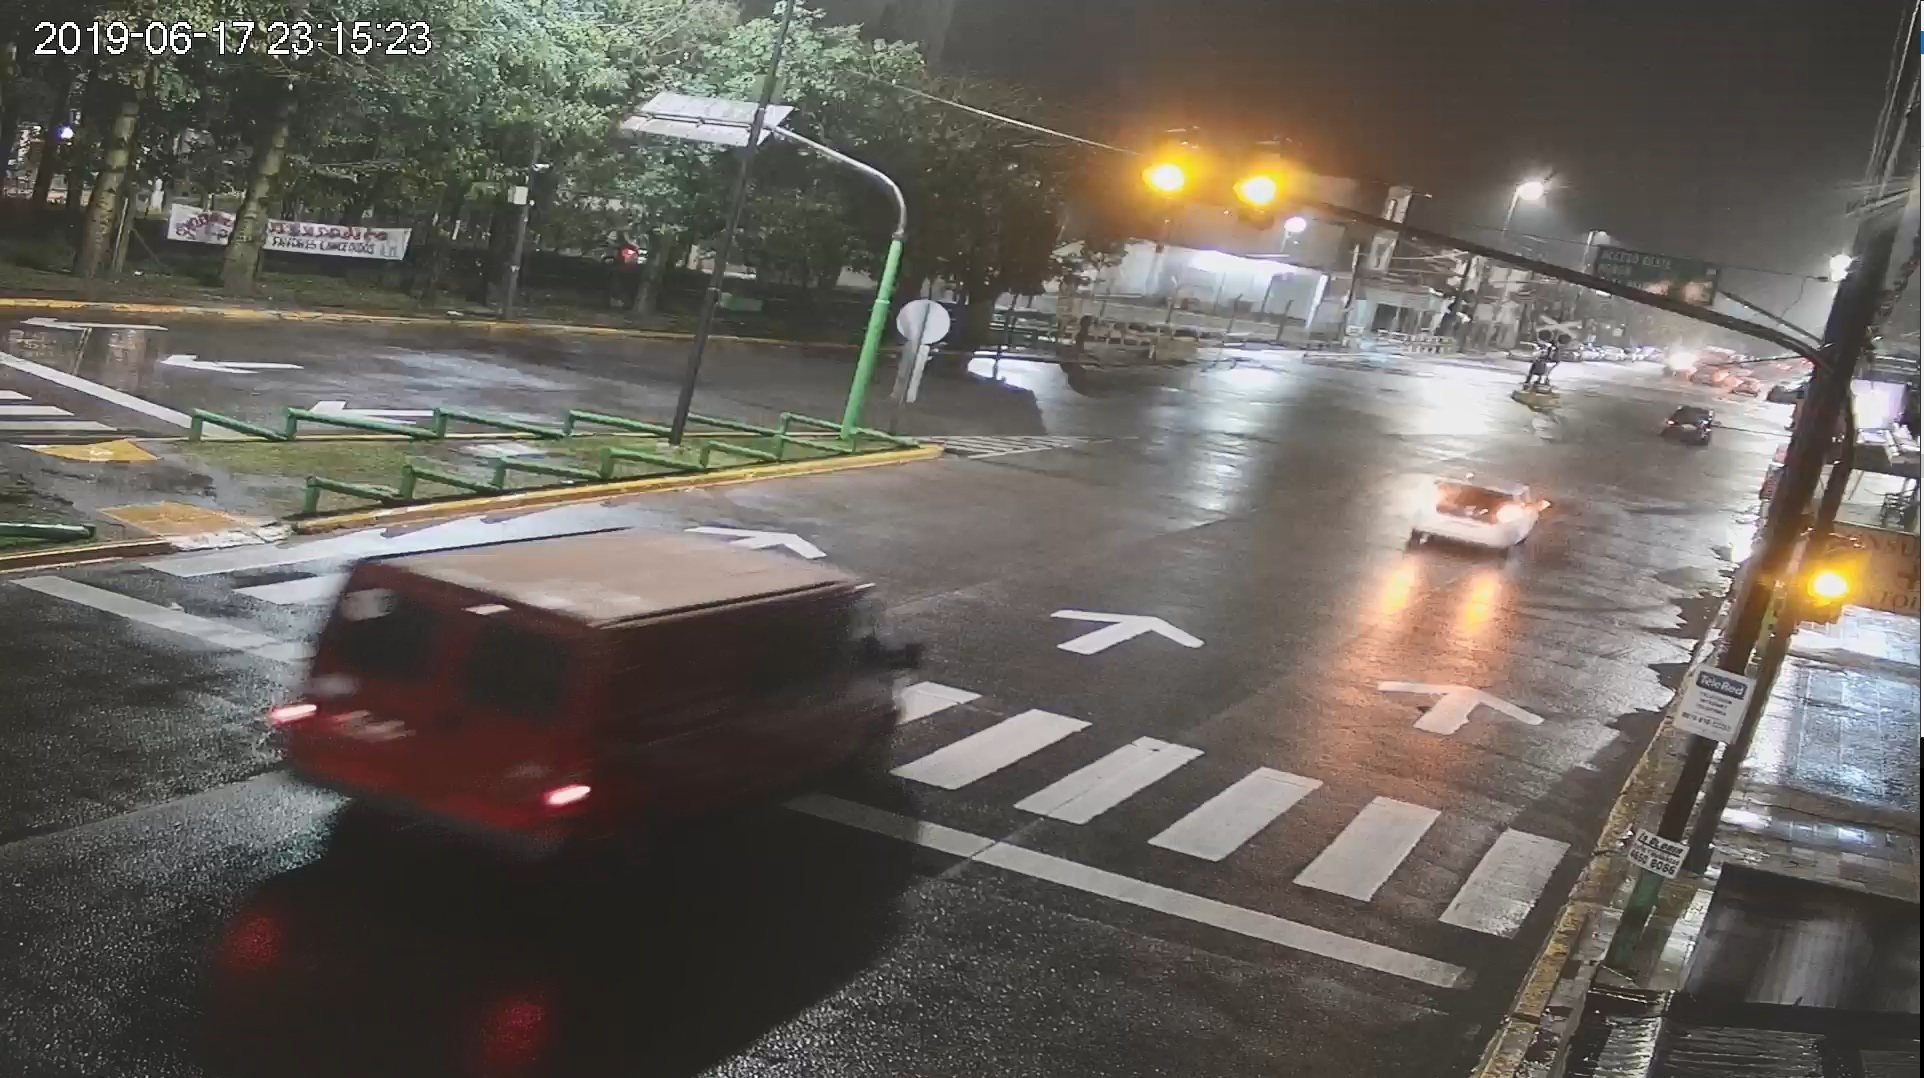car: (277, 524, 928, 879), (1395, 461, 1558, 567)
